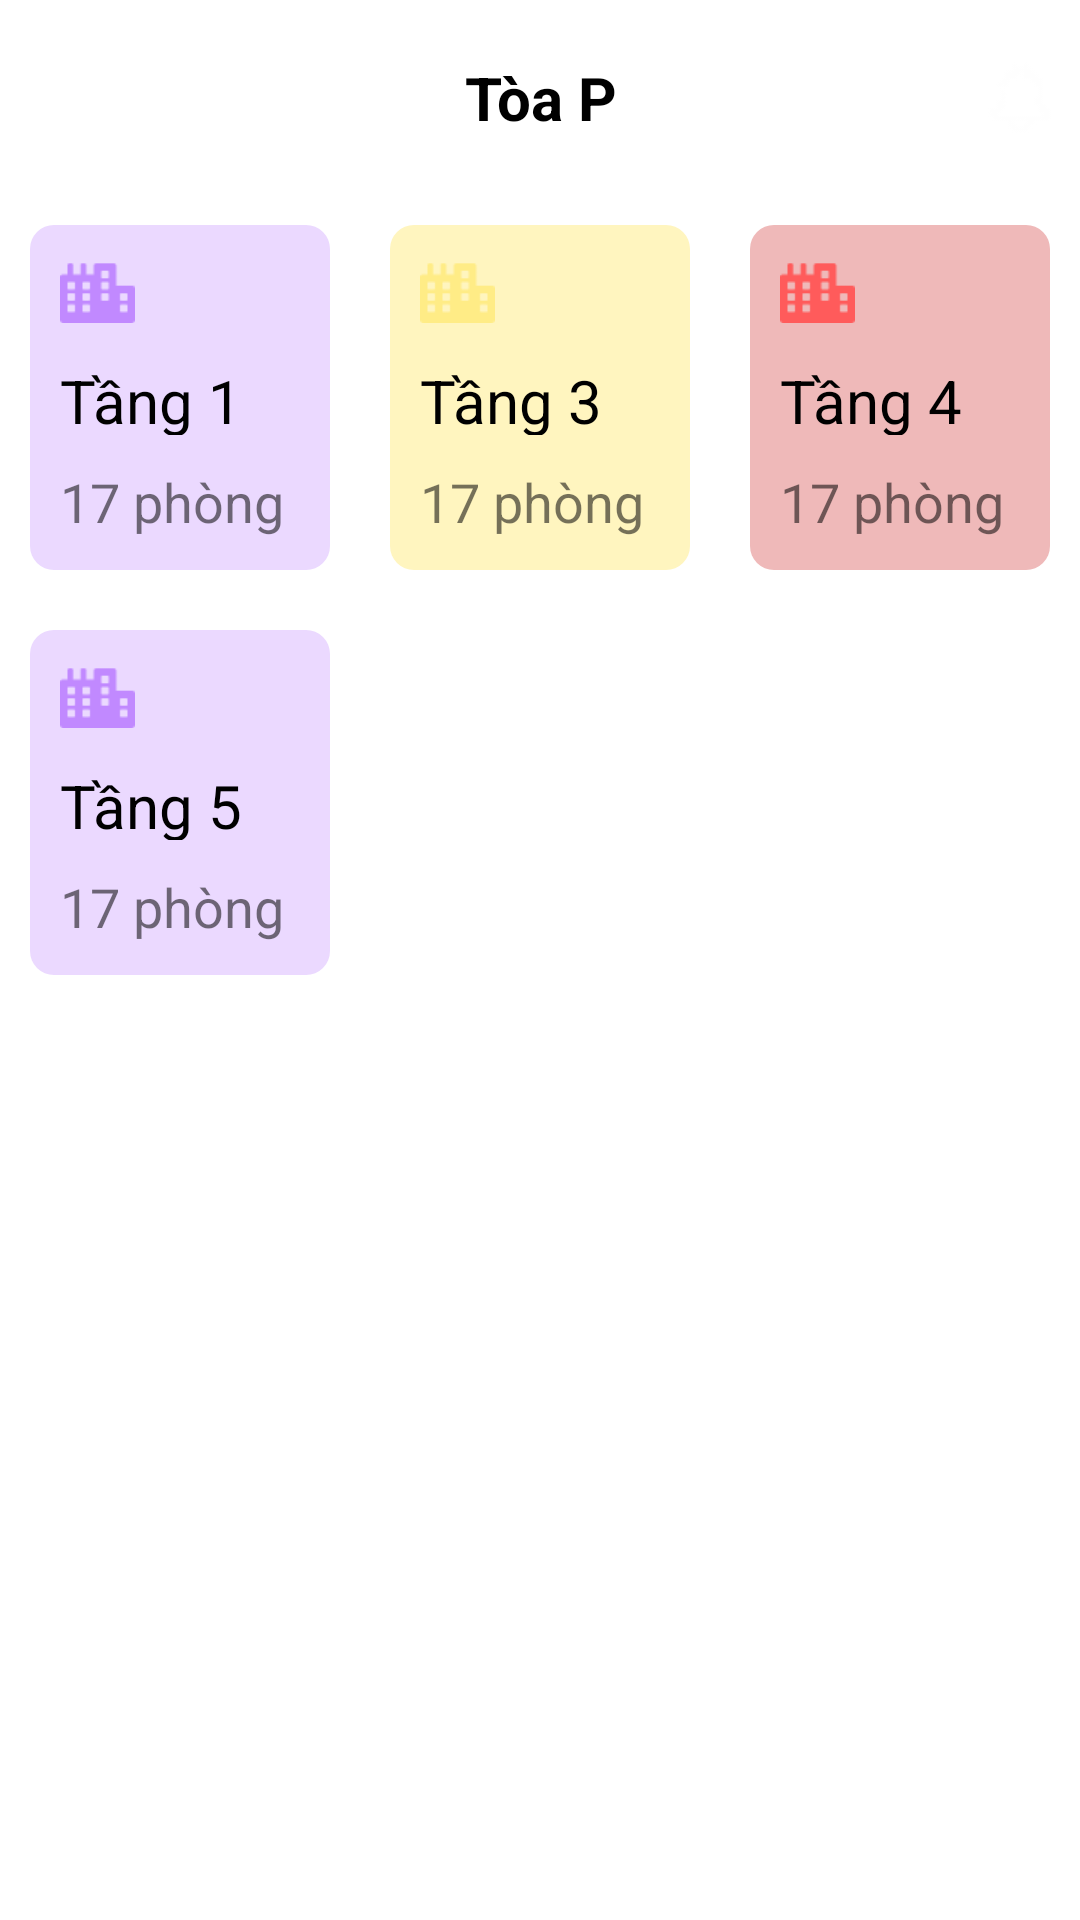

Icon click points for this 1080×1920 phone screenshot, format [x,y]:
building: [817,293]
building pp: [97,293], [97,698]
building yl: [457,293]
